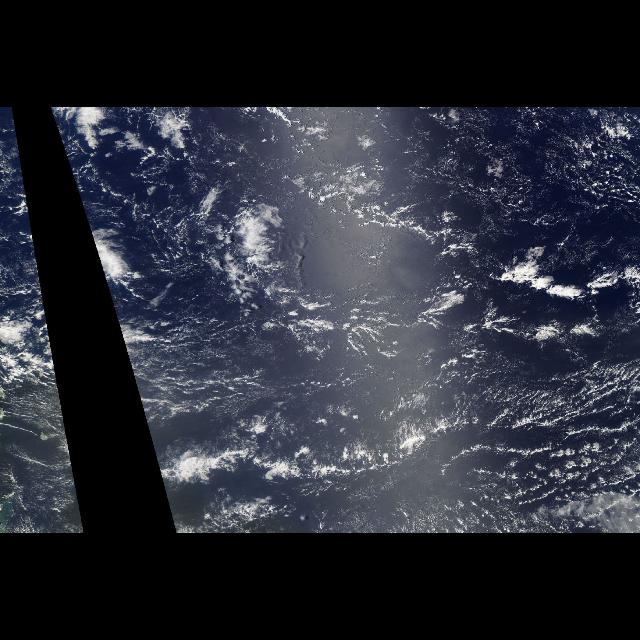Gravel: (148, 344, 638, 518), (479, 115, 639, 232)
Sugar: (149, 346, 633, 432), (386, 108, 638, 246)
